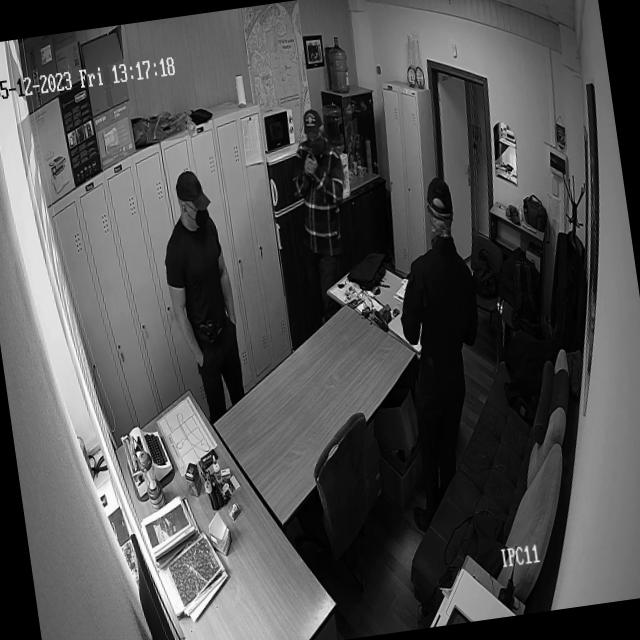gun: (308, 146, 316, 160)
person: (386, 167, 510, 497), (153, 160, 262, 421)
person with a gun: (284, 94, 367, 295)
